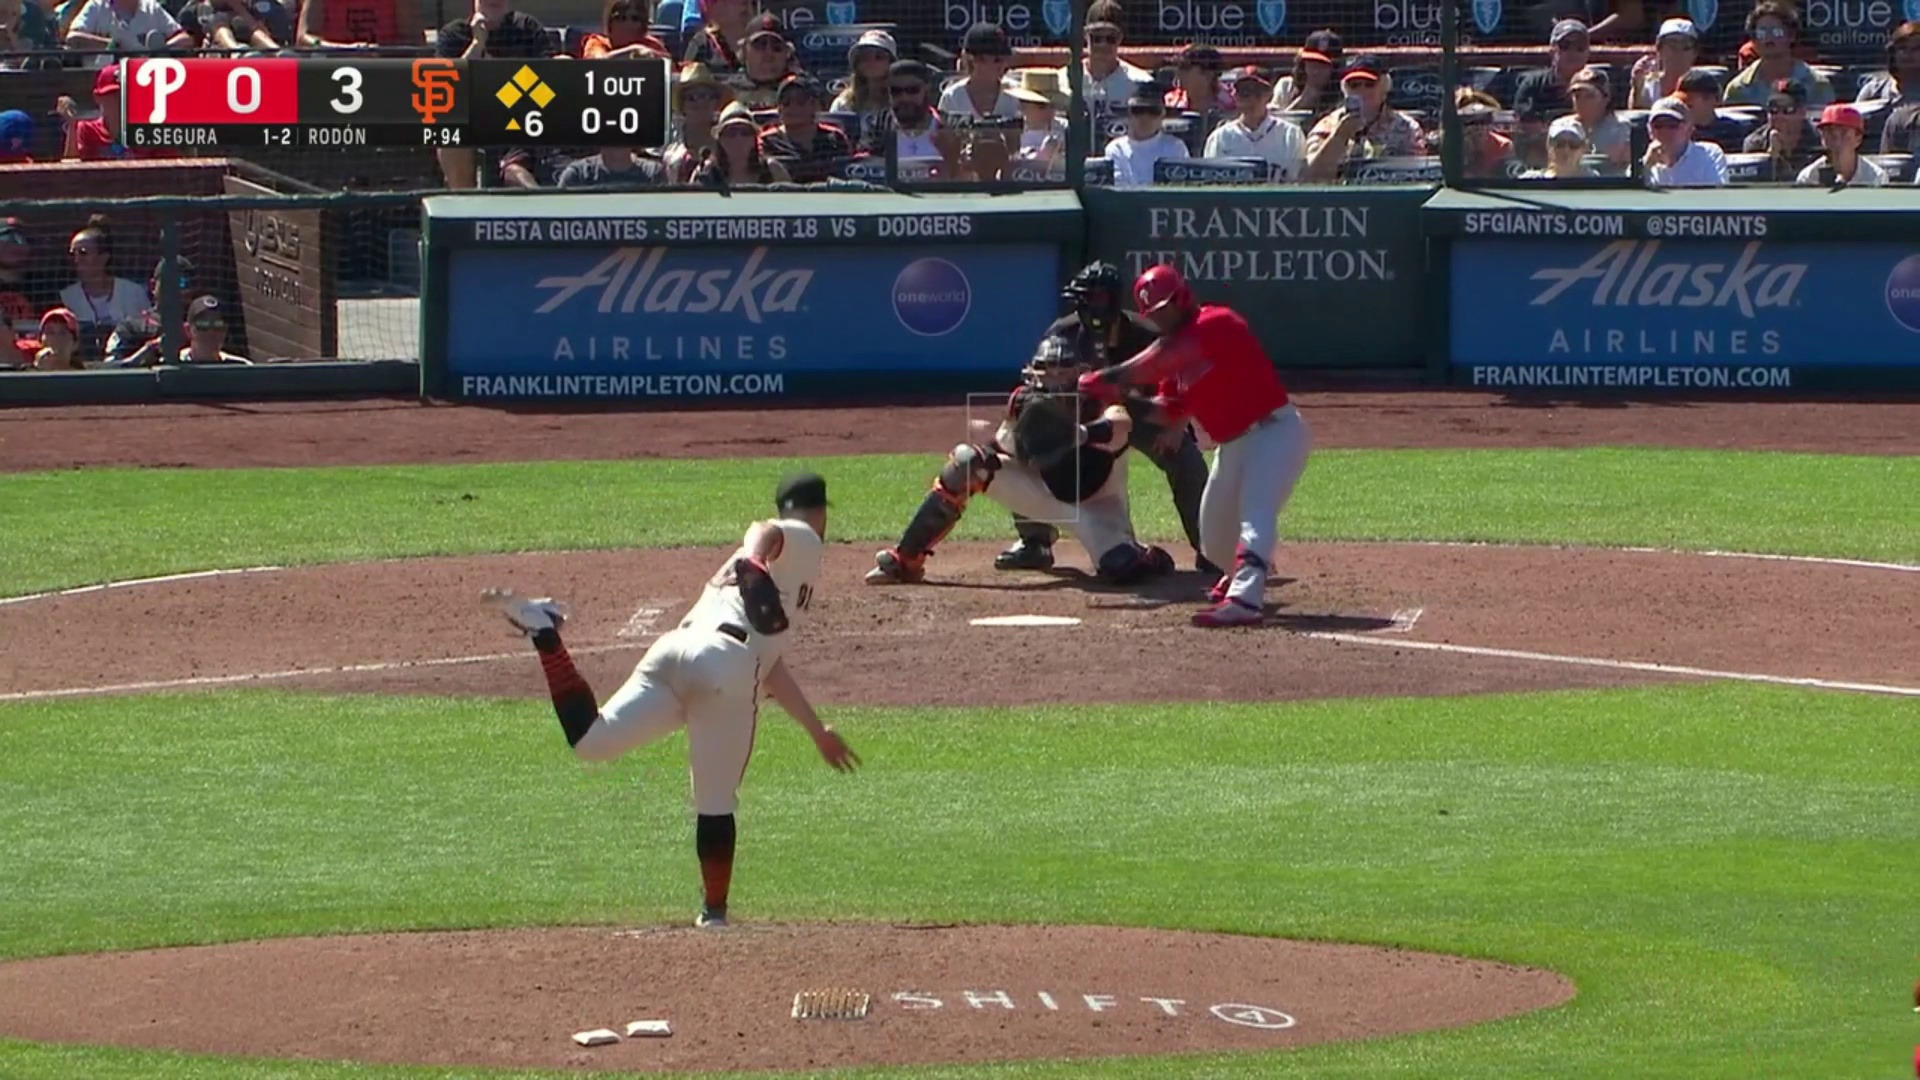baseball: (968, 418, 990, 434)
